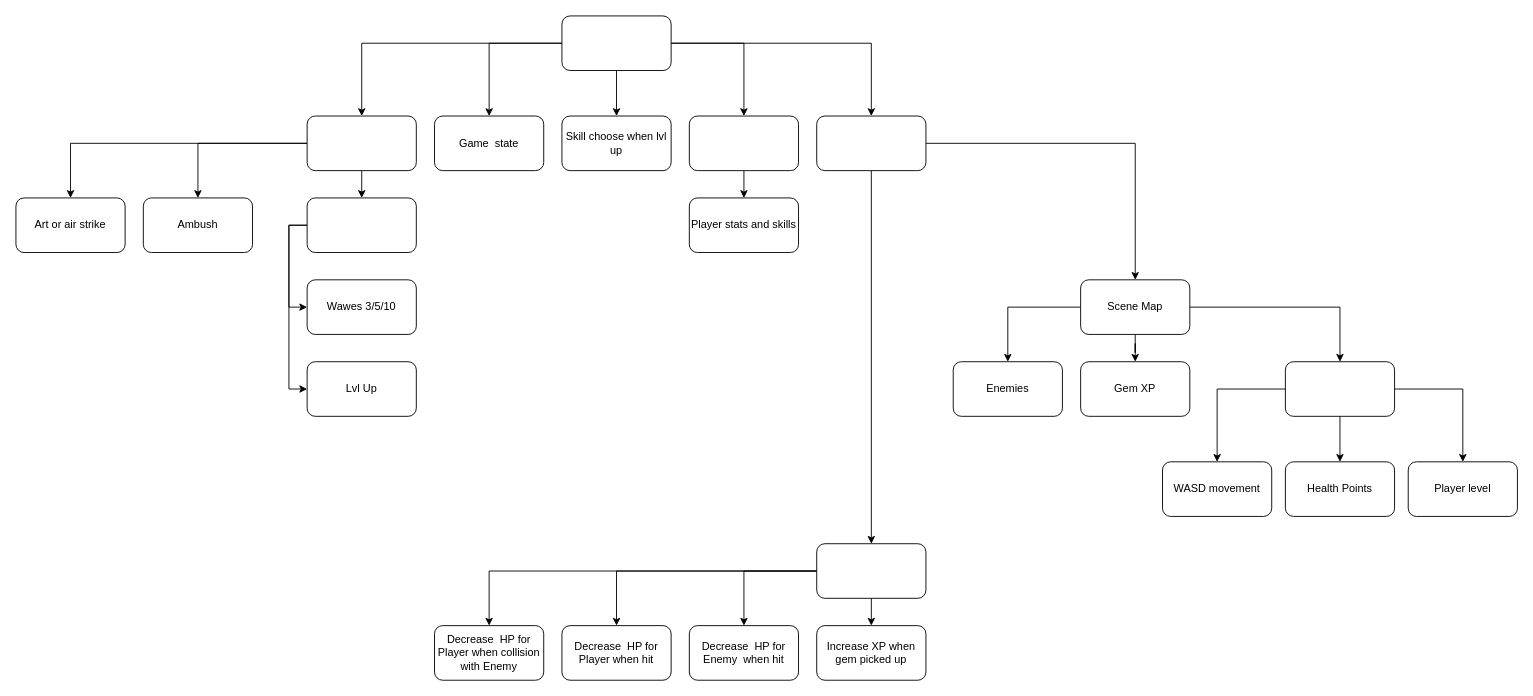
Image size: 1533x696. Some labels were removed from this diagram. The shapes that lost their labels are listed below. From the top down, each one's box as (x1, y1, x2, y2) in pixels, then its label:
(561, 15, 671, 71): Game Manager
(306, 115, 416, 171): Spawn Enemies
(688, 115, 799, 171): Player weapons, Damege
(816, 115, 926, 171): Game loop
(306, 197, 416, 253): Spawn ivents
(1284, 361, 1395, 416): Player
(816, 543, 926, 598): Collision check
